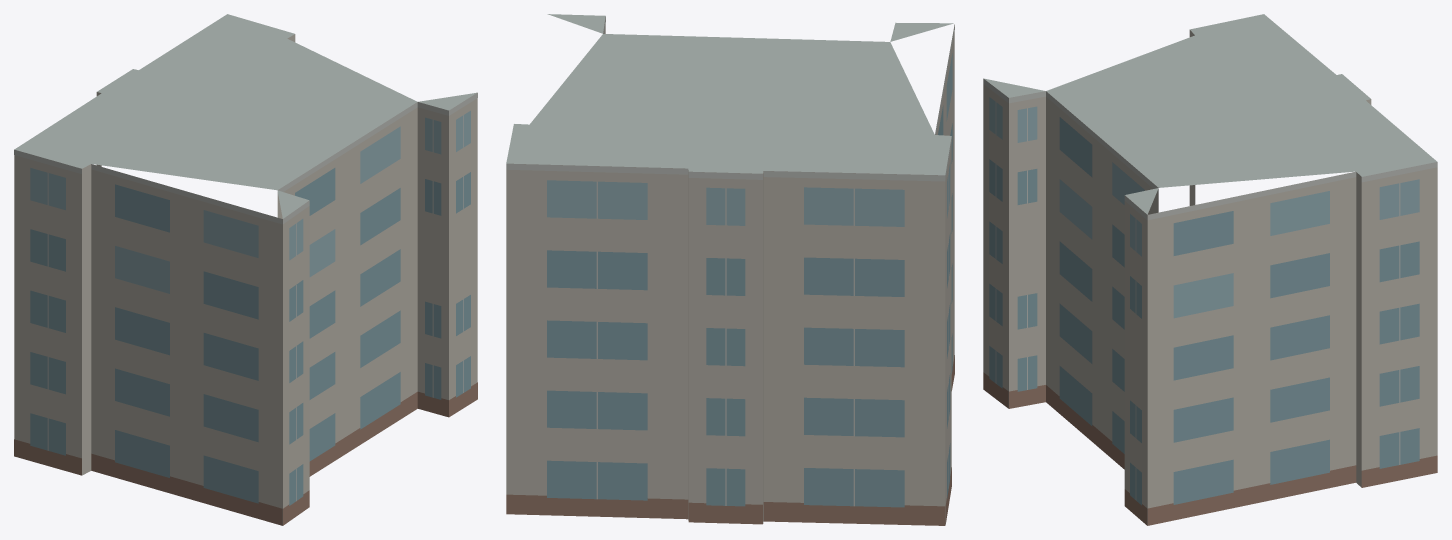
File: survey-upis-32708887.glb
3 renders of one model, left to right at view 1: azimuth 30°, elevation 25°; view 2: azimuth 150°, elevation 25°; view 3: azimuth 270°, elevation 25°, orthographic. The views are drawn at different scales.
Parts seen in each view (by area): view 1: survey-upis-32708887.tmp; view 2: survey-upis-32708887.tmp; view 3: survey-upis-32708887.tmp.
Boxes of the visible parts, box(x1,y1,x2,y2) form: survey-upis-32708887.tmp: box(14, 14, 477, 525); survey-upis-32708887.tmp: box(506, 14, 954, 525); survey-upis-32708887.tmp: box(983, 14, 1437, 525).
Size of the model in its own units: 19.12 by 13.8 by 18.27.
